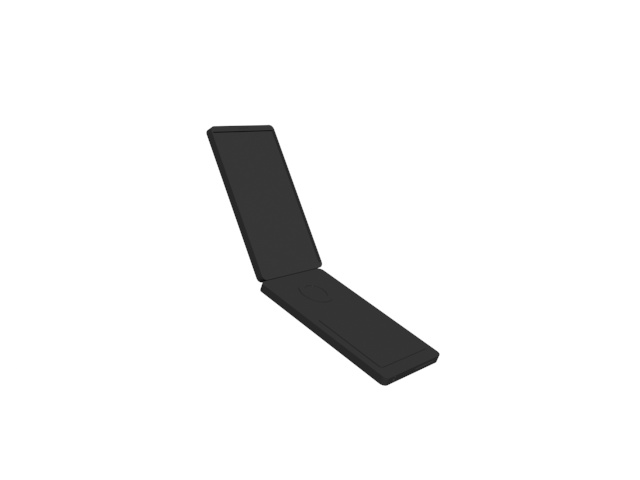mobile_phone: (201, 121, 440, 392)
